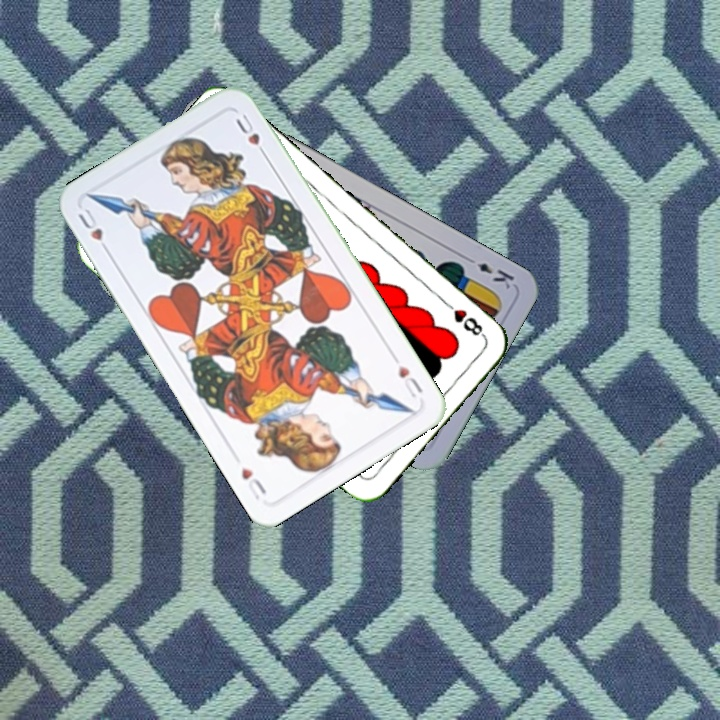EK: (461, 252, 517, 292)
H8: (439, 296, 488, 340)
HU: (74, 203, 113, 258), (394, 361, 425, 401)
